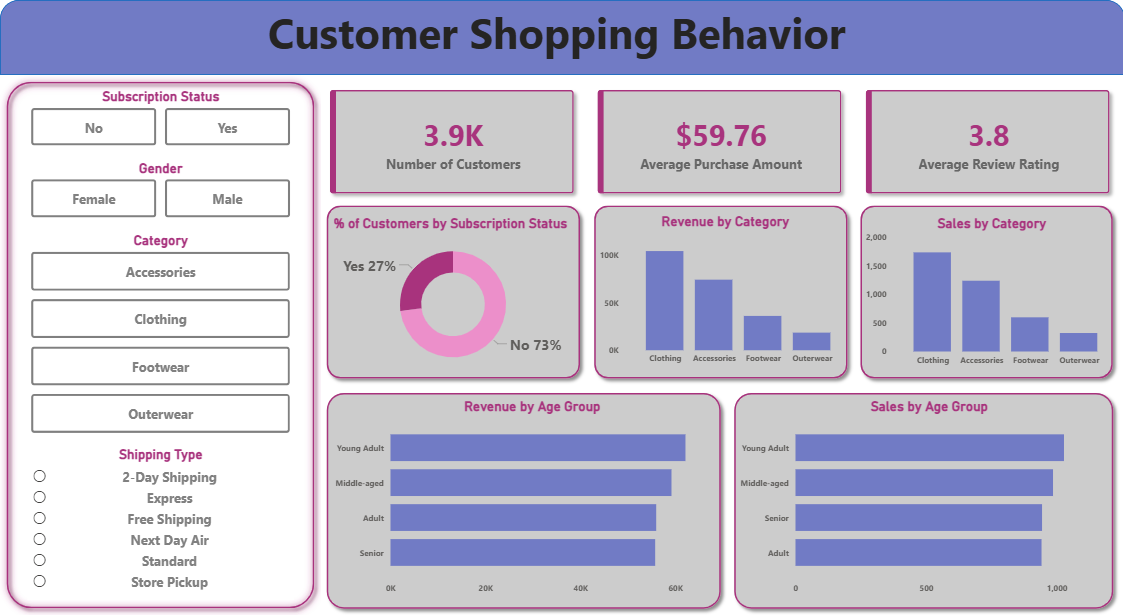

This screenshot's page, from the dashboard's own definition file:
{"tool":"powerbi","page":{"name":"Page 1","canvas":[1500,820],"ordinal":0},"visuals":[{"type":"cardVisual","fields":{"Data":["public customer.Number of Customers","public customer.Average of Purchase Amount","public customer.Average Review Rating"]},"box":[420,100,1080,178.6],"z":0},{"type":"shape","box":[0,0,1500,100],"z":1000},{"type":"textbox","box":[0,0,1500,100],"z":2000},{"type":"shape","box":[427.1,265.7,355.7,248.6],"z":3000},{"type":"donutChart","title":"% of Customers by Subscription Status","fields":{"Category":["public customer.subscription_status"],"Y":["CountNonNull(public customer.customer_id)"]},"box":[440.8,286.9,328.5,217.7],"z":4000},{"type":"shape","box":[782.9,265.7,355.7,248.6],"z":5000},{"type":"shape","box":[1138.6,265.7,354.3,248.6],"z":6000},{"type":"clusteredColumnChart","title":"Revenue by Category","fields":{"Y":["Sum(public customer.purchase_amount)"],"Category":["public customer.category"]},"box":[795.4,285.4,348.5,210],"z":7000},{"type":"clusteredColumnChart","title":"Sales by Category","fields":{"Category":["public customer.category"],"Y":["CountNonNull(public customer.customer_id)"]},"box":[1150.8,286.9,349.2,210],"z":8000},{"type":"shape","box":[0,100,428,720],"z":9000},{"type":"advancedSlicerVisual","title":"Subscription Status","fields":{"Values":["public customer.subscription_status"]},"box":[36.7,118.9,355.6,81.1],"z":10000},{"type":"advancedSlicerVisual","title":"Gender","fields":{"Values":["public customer.gender"]},"box":[36.7,213.3,355.6,82.2],"z":11000},{"type":"advancedSlicerVisual","title":"Category","fields":{"Values":["public customer.category"]},"box":[36.7,310,355.6,274.4],"z":12000},{"type":"listSlicer","title":"Shipping Type","fields":{"Values":["public customer.shipping_type"]},"box":[36.7,595.6,355.6,204.4],"z":13000},{"type":"shape","box":[426.7,514.4,543.3,305.6],"z":14000},{"type":"clusteredBarChart","title":"Revenue by Age Group","fields":{"Y":["Sum(public customer.purchase_amount)"],"Category":["public customer.age_group"]},"box":[441.1,531.1,540,270],"z":15000},{"type":"shape","box":[970,514.4,523.3,305.6],"z":16000},{"type":"clusteredBarChart","title":"Sales by Age Group","fields":{"Category":["public customer.age_group"],"Y":["CountNonNull(public customer.customer_id)"]},"box":[981.1,532.2,518.9,270],"z":17000}]}

Visuals, with their boxes in screenshot pixels (x1, y1, x2, y2), scaled from the page's 1500x820 canvas onto the 1123x615 screenshot:
cardVisual - public customer.Number of Customers x public customer.Average of Purchase Amount: x1=314, y1=75, x2=1122, y2=209
shape: x1=0, y1=0, x2=1122, y2=75
textbox: x1=0, y1=0, x2=1122, y2=75
shape: x1=320, y1=199, x2=586, y2=386
"% of Customers by Subscription Status" donutChart: x1=330, y1=215, x2=576, y2=378
shape: x1=586, y1=199, x2=852, y2=386
shape: x1=852, y1=199, x2=1118, y2=386
"Revenue by Category" clusteredColumnChart: x1=595, y1=214, x2=856, y2=372
"Sales by Category" clusteredColumnChart: x1=862, y1=215, x2=1122, y2=373
shape: x1=0, y1=75, x2=320, y2=614
"Subscription Status" advancedSlicerVisual: x1=27, y1=89, x2=294, y2=150
"Gender" advancedSlicerVisual: x1=27, y1=160, x2=294, y2=222
"Category" advancedSlicerVisual: x1=27, y1=232, x2=294, y2=438
"Shipping Type" listSlicer: x1=27, y1=447, x2=294, y2=600
shape: x1=319, y1=386, x2=726, y2=614
"Revenue by Age Group" clusteredBarChart: x1=330, y1=398, x2=735, y2=601
shape: x1=726, y1=386, x2=1118, y2=614
"Sales by Age Group" clusteredBarChart: x1=735, y1=399, x2=1122, y2=602
